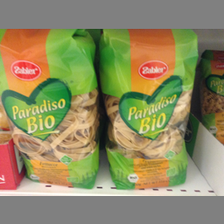pasta: (1, 30, 100, 190), (100, 30, 198, 190)
